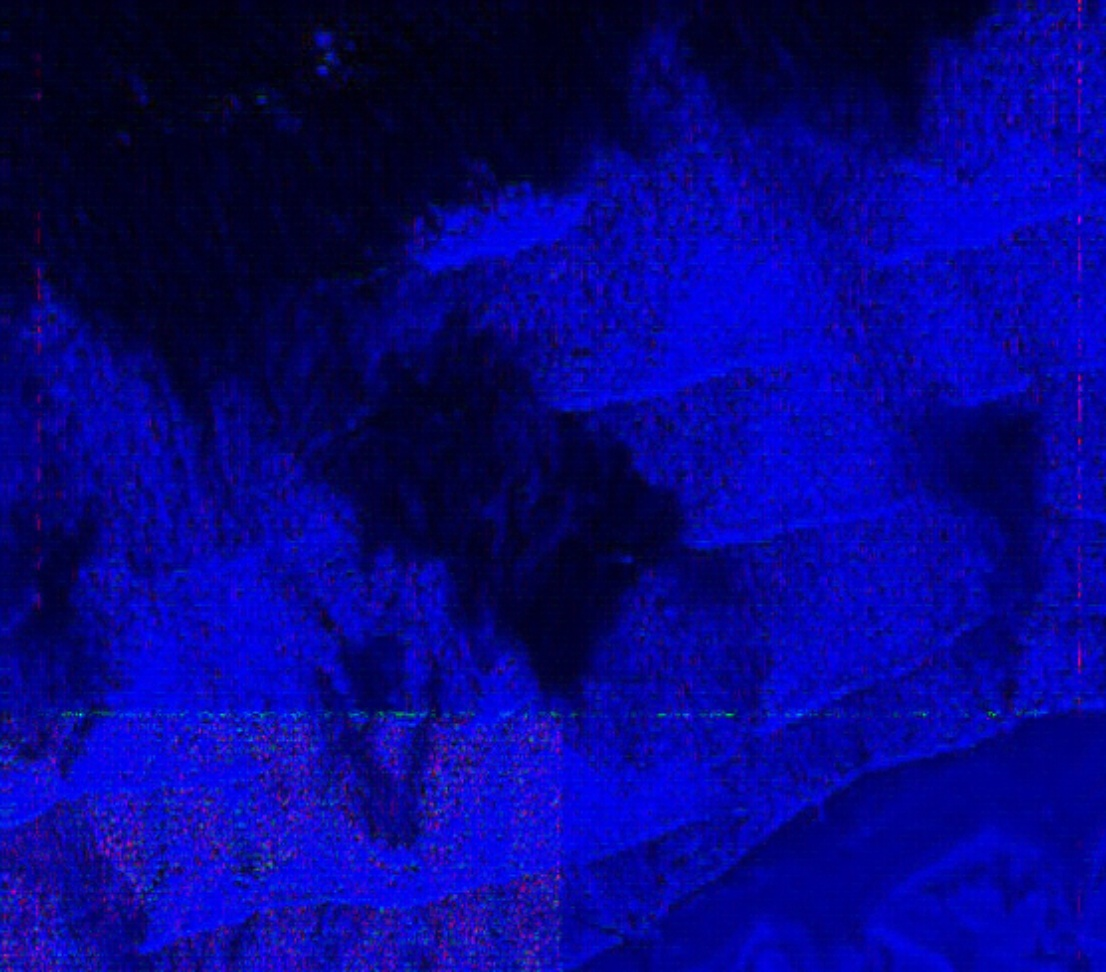rip_current: (193, 268, 859, 746)
